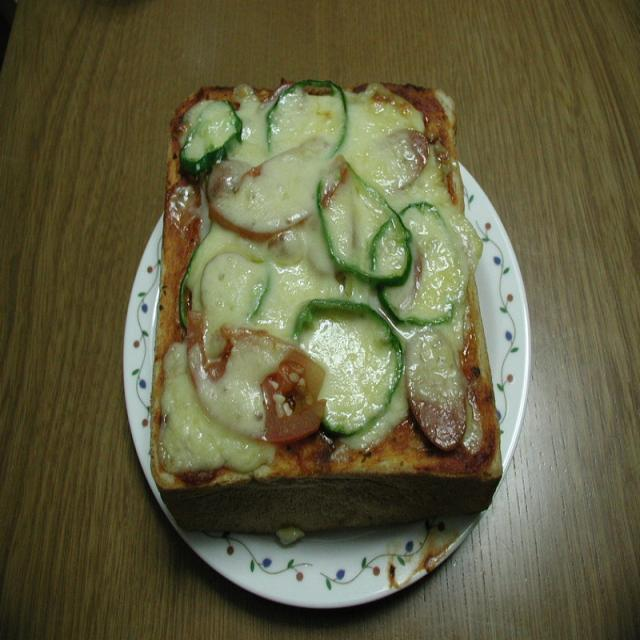面包点心: (112, 76, 541, 625)
